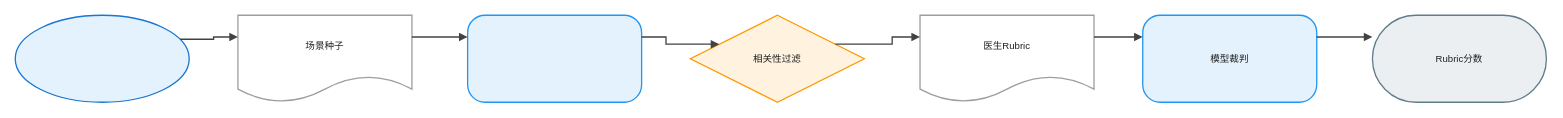
This 1563x118 diagram has some shape labels left out. The shapes that lost their labels are listed below. From the top down, each one's centre as x and y in pixels, then its label:
At point 101,58: "医生队伍".
At point 554,58: "多轮对话".
